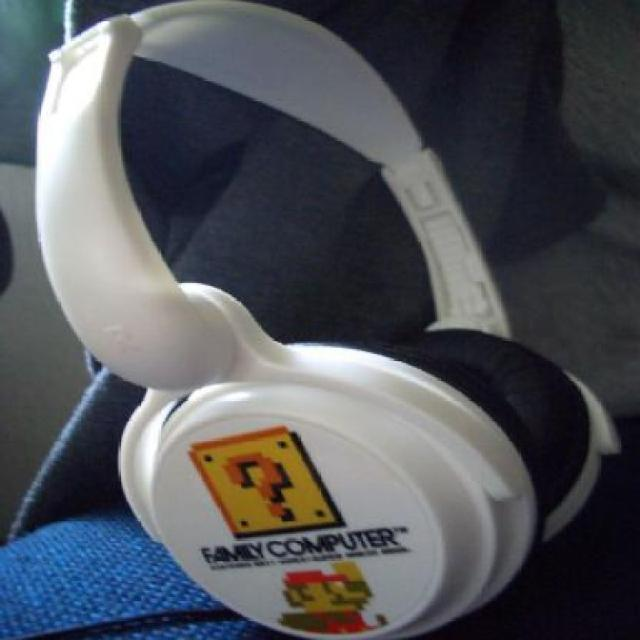earphone: (45, 5, 562, 635)
